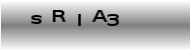3: (105, 13, 119, 26)
A: (91, 9, 107, 23)
R: (51, 9, 66, 23)
l: (76, 13, 81, 27)
s: (29, 14, 42, 24)
